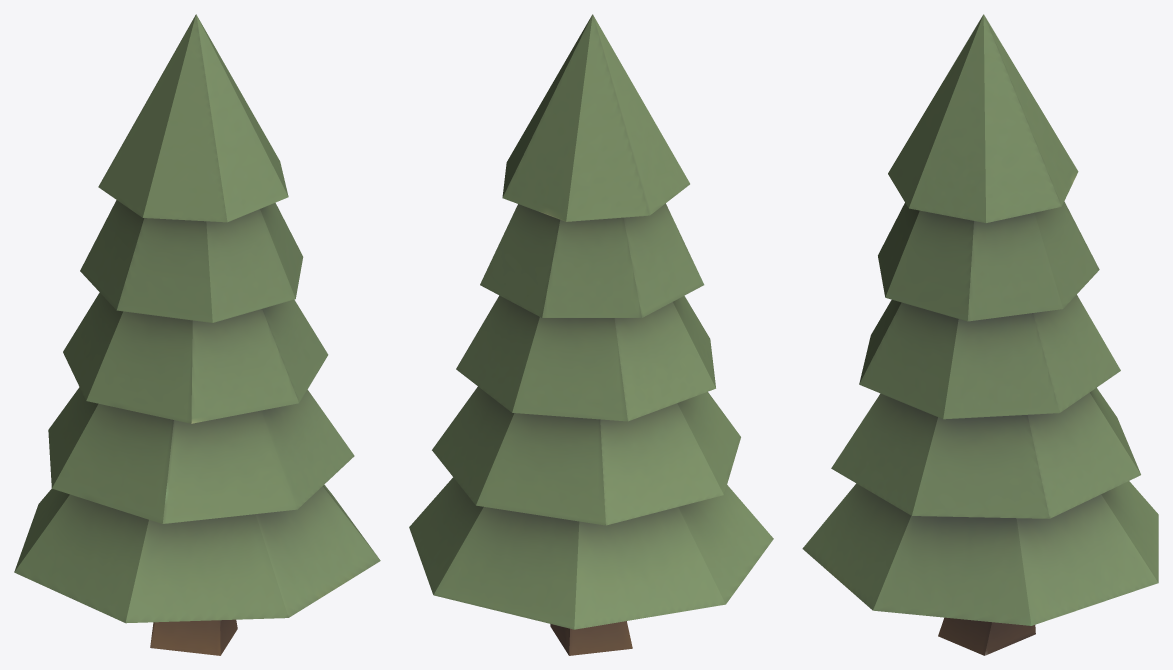
The model's file is Foilage_Tree_E.fbx.
3 views of the same model, side by side, from view 1: azimuth 30°, elevation 25°; view 2: azimuth 150°, elevation 25°; view 3: azimuth 270°, elevation 25° (orthographic).
Visible parts, largest first — view 1: Foilage_Tree_E; view 2: Foilage_Tree_E; view 3: Foilage_Tree_E.
Part boxes in pixels (x1,y1,x2,y2): Foilage_Tree_E: (14, 14, 380, 655); Foilage_Tree_E: (409, 14, 773, 655); Foilage_Tree_E: (802, 14, 1158, 655).
Size of the model in its own units: 420 by 789 by 410.
